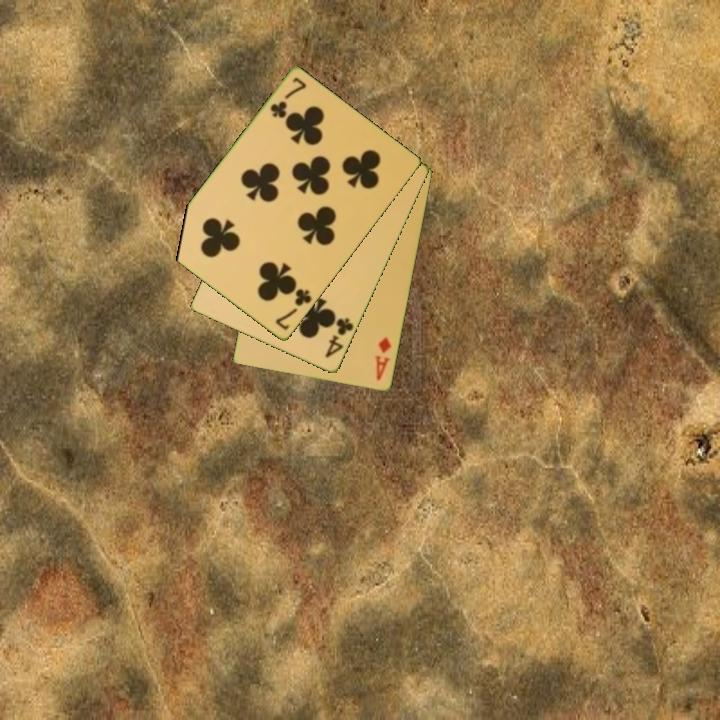4c: (322, 314, 357, 361)
7c: (272, 285, 315, 333), (267, 74, 309, 122)
Ad: (372, 334, 395, 384)
